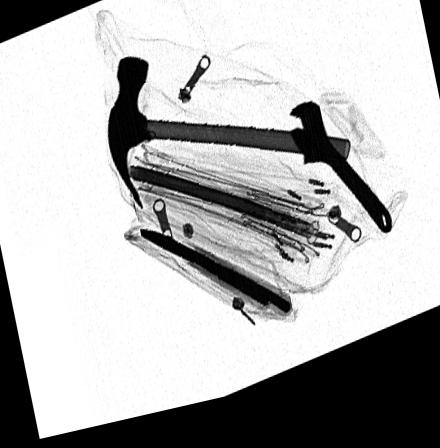Hammer: (106, 62, 347, 216)
Pliers: (134, 230, 294, 331)
Wrench: (287, 117, 391, 252)
